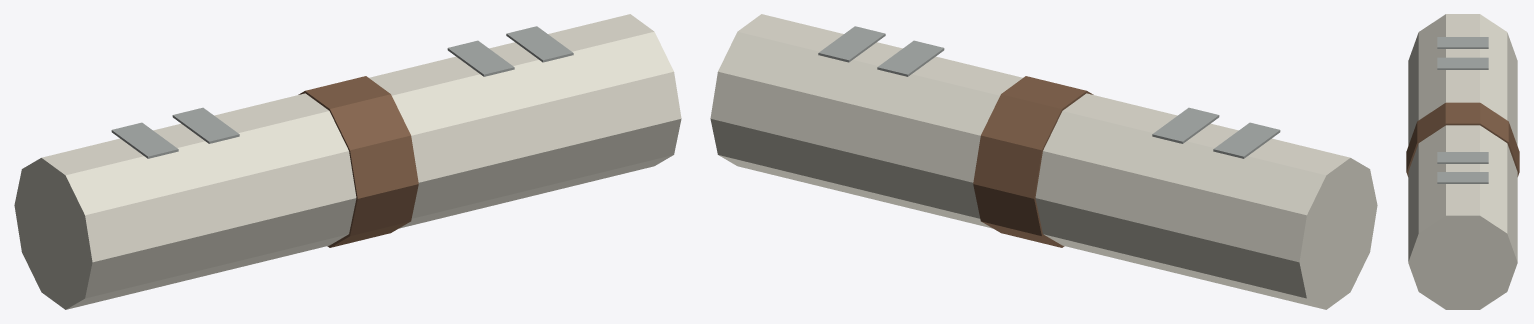
Rendered from b16_rolled_newspaper.glb.
The picture shows the model from 3 angles, left to right: view 1: azimuth 30°, elevation 25°; view 2: azimuth 150°, elevation 25°; view 3: azimuth 270°, elevation 25°; orthographic projection. The views are drawn at different scales.
Visible parts, largest first — view 1: b16_rolled_newspaper; view 2: b16_rolled_newspaper; view 3: b16_rolled_newspaper.
Boxes of the visible parts, x1,y1,x2,y2 form: b16_rolled_newspaper: (14,14,681,309); b16_rolled_newspaper: (710,14,1377,309); b16_rolled_newspaper: (1406,14,1519,309).
Size of the model in its own units: 0.27 by 0.0619 by 0.064.
